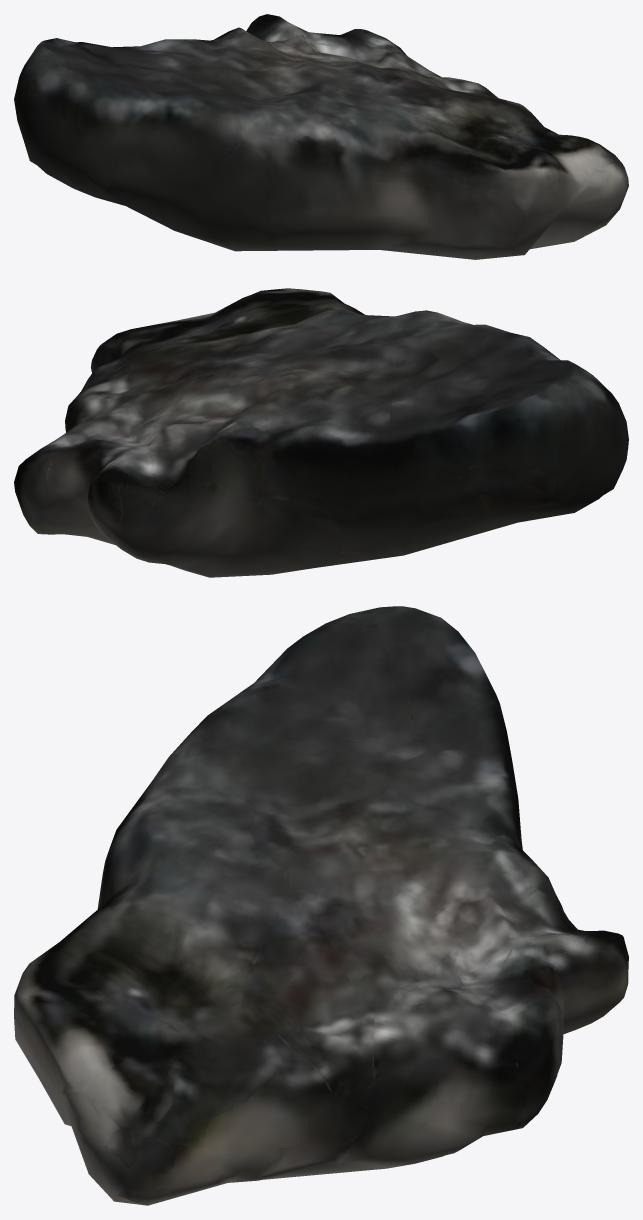
Rendered from hall.glb.
3 renders of one model, top to bottom at view 1: azimuth 30°, elevation 25°; view 2: azimuth 150°, elevation 25°; view 3: azimuth 270°, elevation 25°, orthographic. The views are drawn at different scales.
Bounding box in the file's own units: 0.6328 × 0.2694 × 0.4715.
Materials: 1 (1 with a texture image).
